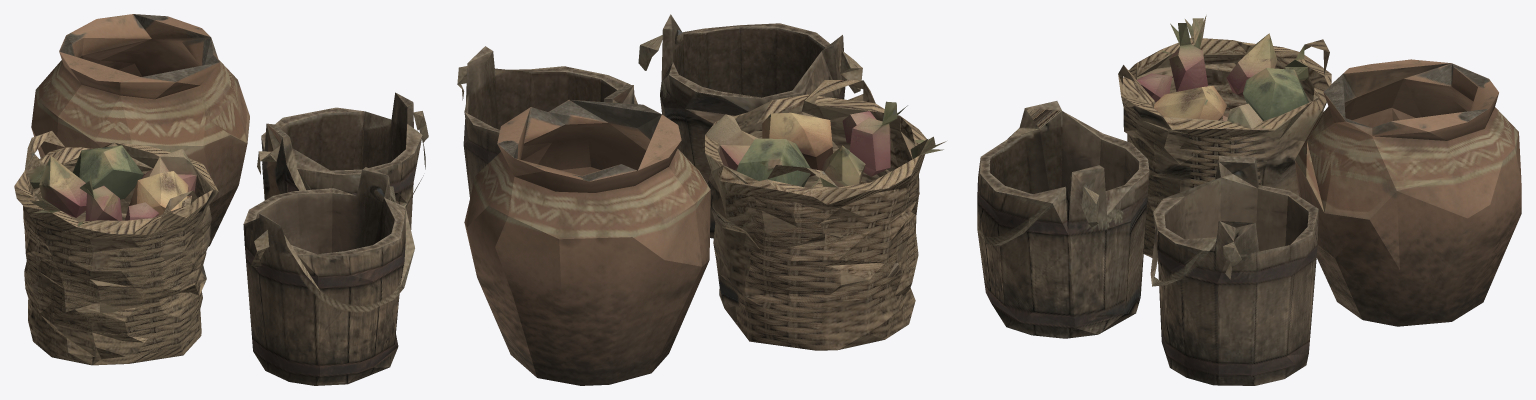
Rendered from bucket_set.glb.
3 views of the same model, side by side, from view 1: azimuth 30°, elevation 25°; view 2: azimuth 150°, elevation 25°; view 3: azimuth 270°, elevation 25° (orthographic). The views are drawn at different scales.
Parts seen in each view (by area): view 1: bucket_set; view 2: bucket_set; view 3: bucket_set.
Boxes of the visible parts, box(x1,y1,x2,y2) form: bucket_set: box(14, 14, 428, 385); bucket_set: box(457, 14, 946, 385); bucket_set: box(977, 15, 1521, 385).
Size of the model in its own units: 1.76 by 0.8 by 1.9.
Materials: 1 (1 with a texture image).
